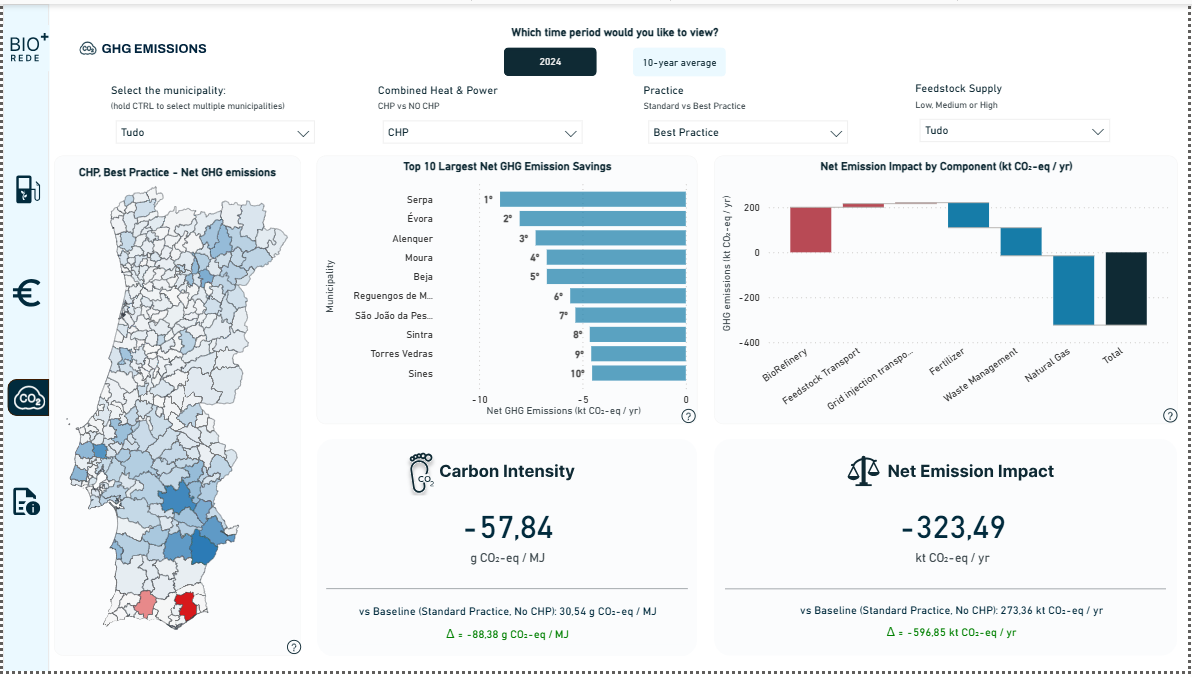

The dashboard page shown, as its layout file describes it:
{"tool":"powerbi","page":{"name":"GHG","canvas":[1280,720],"ordinal":5},"visuals":[{"type":"shape","title":"Barra_lateral","box":[0,0,50,720],"z":0,"group":"g2"},{"type":"shapeMap","fields":{"Category":["GHG.Municipality"],"Value":["Sum(GHG.Net Emissions)"]},"box":[55,164.4,266.7,540],"z":1000,"group":"g1"},{"type":"shape","box":[5,404,45,40],"z":1000,"group":"g2"},{"type":"card","fields":{"Values":["GHG.Titulo_mapa_ghg"]},"box":[64.5,164,247.1,40],"z":1500,"group":"g1"},{"type":"group","id":"g1","title":"Grupo 1","box":[55,164,266.9,540.4],"z":2000},{"type":"actionButton","title":"Duvidas_total_mapa","box":[304,686,17.9,17.9],"z":2000,"group":"g1"},{"type":"slicer","title":"Select the municipality:","fields":{"Values":["Municipality.Municipality"]},"box":[117,85.1,225,68.1],"z":3000},{"type":"actionButton","title":"Total_button","box":[5,180,44,40],"z":3000,"group":"g2"},{"type":"group","id":"g2","title":"Menu lateral abaerto","box":[0,0,50,720],"z":4000},{"type":"group","id":"g3","title":"Grupo 3","box":[541,-3.9,240,83.3],"z":5000},{"type":"actionButton","title":"Info_button","box":[3,516,44,40.6],"z":5000,"group":"g2"},{"type":"group","id":"g4","title":"Grupo 4","box":[338,164,411,290],"z":6000},{"type":"actionButton","title":"Euro_button","box":[6,404,44,40],"z":6000,"group":"g2"},{"type":"actionButton","box":[82,32,140,31],"z":7000},{"type":"actionButton","title":"Person_button","box":[3.6,292,44,40],"z":7000,"group":"g2"},{"type":"actionButton","title":"MEM+","box":[0,22.1,49.9,49.9],"z":8000,"group":"g2"},{"type":"actionButton","title":"TE_total_button","box":[680.7,47,100.3,31.3],"z":8000,"group":"g5"},{"type":"clusteredBarChart","title":"Top 10 Largest Net GHG Emission Savings","fields":{"Category":["GHG_TOP10.Municipality"],"Y":["Sum(GHG_TOP10.Net CO2eq yr-1)"]},"box":[338,164,411,290],"z":8000,"group":"g4"},{"type":"slicer","title":"Combined Heat & Power","fields":{"Values":["CHP.CHP_or_not"]},"box":[405,85.1,225.7,68.1],"z":9000},{"type":"actionButton","box":[541.3,46.8,100,30.8],"z":10000,"group":"g5"},{"type":"waterfallChart","title":"Net Emission Impact by Component (kt CO₂-eq / yr)","fields":{"Category":["Components.Component"],"Y":["Components.Waterfall Value"]},"box":[767.6,164,500.4,290],"z":10000},{"type":"slicer","title":"Practice","fields":{"Values":["Practice.Practice"]},"box":[692,85.1,225.7,68.1],"z":11000},{"type":"actionButton","box":[338.4,469.8,411.2,234.4],"z":12000},{"type":"actionButton","title":"Duvidas_total_ranking","box":[730.5,436,17.9,17.9],"z":13000,"group":"g4"},{"type":"cardVisual","fields":{"Data":["GHG.Avg_carbon_intensity"]},"box":[469.8,536,150.3,79.4],"z":13000},{"type":"textbox","box":[541,-3.9,240,83.3],"z":14000,"group":"g3"},{"type":"cardVisual","fields":{"Data":["GHG.sentence1_CI","GHG.sentence2_CI"]},"box":[349.8,640.9,390.4,50],"z":14000},{"type":"group","id":"g5","title":"Grupo 2","box":[541.3,46.8,239.7,31.5],"z":14500,"group":"g3"},{"type":"actionButton","box":[767.6,469.8,500.1,234.4],"z":15000},{"type":"cardVisual","fields":{"Data":["GHG.Avg_net_em_impact"]},"box":[927.4,536,194.7,79.4],"z":16000},{"type":"cardVisual","fields":{"Data":["GHG.sentence1_NEI","GHG.sentence2_NEI"]},"box":[829.1,640.9,390.4,49.2],"z":17000},{"type":"actionButton","box":[1252,436,17,17],"z":18000},{"type":"slicer","title":"Feedstock Supply","fields":{"Values":["Supply.Supply"]},"box":[980,85,225,68],"z":19000}]}

Visuals, with their boxes in screenshot pixels (x1, y1, x2, y2), scaled from the page's 1280x720 canvas onto the 1192x676 screenshot:
"Barra_lateral" shape: bbox(0, 0, 47, 675)
shapeMap - GHG.Municipality x Sum(GHG.Net Emissions): bbox(51, 154, 300, 661)
shape: bbox(5, 379, 47, 417)
card - GHG.Titulo_mapa_ghg: bbox(60, 154, 290, 192)
"Grupo 1" group: bbox(51, 154, 300, 661)
"Duvidas_total_mapa" actionButton: bbox(283, 644, 300, 661)
"Select the municipality:" slicer: bbox(109, 80, 318, 144)
"Total_button" actionButton: bbox(5, 169, 46, 207)
"Menu lateral abaerto" group: bbox(0, 0, 47, 675)
"Grupo 3" group: bbox(504, 0, 727, 75)
"Info_button" actionButton: bbox(3, 484, 44, 523)
"Grupo 4" group: bbox(315, 154, 698, 426)
"Euro_button" actionButton: bbox(6, 379, 47, 417)
actionButton: bbox(76, 30, 207, 59)
"Person_button" actionButton: bbox(3, 274, 44, 312)
"MEM+" actionButton: bbox(0, 21, 46, 68)
"TE_total_button" actionButton: bbox(634, 44, 727, 74)
"Top 10 Largest Net GHG Emission Savings" clusteredBarChart: bbox(315, 154, 698, 426)
"Combined Heat & Power" slicer: bbox(377, 80, 587, 144)
actionButton: bbox(504, 44, 597, 73)
"Net Emission Impact by Component (kt CO₂-eq / yr)" waterfallChart: bbox(715, 154, 1181, 426)
"Practice" slicer: bbox(644, 80, 855, 144)
actionButton: bbox(315, 441, 698, 661)
"Duvidas_total_ranking" actionButton: bbox(680, 409, 697, 426)
cardVisual - GHG.Avg_carbon_intensity: bbox(438, 503, 577, 578)
textbox: bbox(504, 0, 727, 75)
cardVisual - GHG.sentence1_CI x GHG.sentence2_CI: bbox(326, 602, 689, 649)
"Grupo 2" group: bbox(504, 44, 727, 74)
actionButton: bbox(715, 441, 1181, 661)
cardVisual - GHG.Avg_net_em_impact: bbox(864, 503, 1045, 578)
cardVisual - GHG.sentence1_NEI x GHG.sentence2_NEI: bbox(772, 602, 1136, 648)
actionButton: bbox(1166, 409, 1182, 425)
"Feedstock Supply" slicer: bbox(913, 80, 1122, 144)
